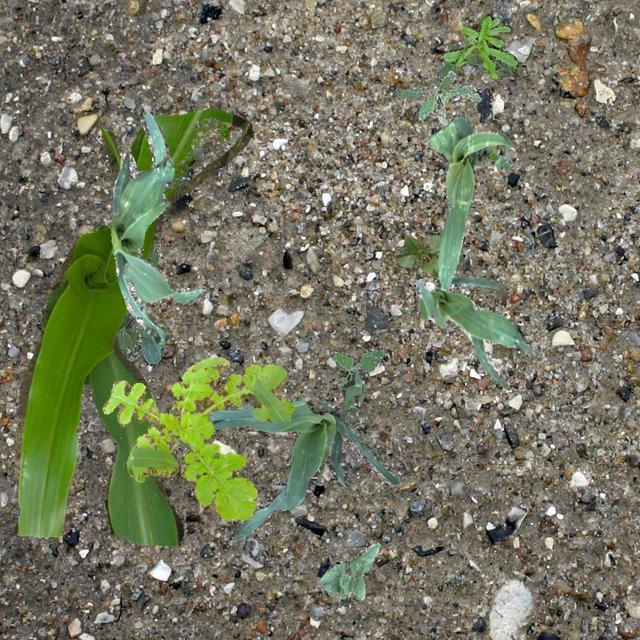crop: (12, 108, 252, 546), (180, 366, 398, 544), (110, 110, 200, 343), (428, 113, 512, 290), (414, 274, 534, 388), (116, 232, 162, 364), (318, 542, 380, 598), (392, 233, 440, 276)
weed: (102, 356, 292, 520), (442, 12, 518, 78), (394, 70, 480, 124), (436, 41, 522, 78), (329, 348, 384, 402)
